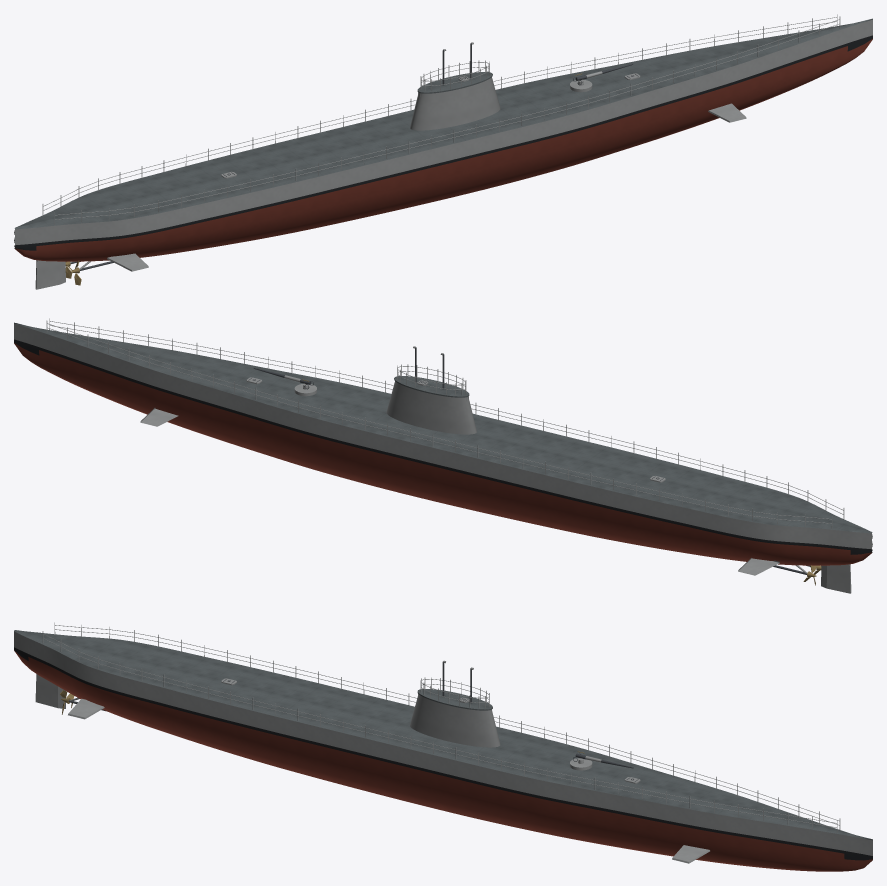
The model's file is mare_ss28.glb.
3 views of the same model, one above another, from view 1: azimuth 30°, elevation 25°; view 2: azimuth 150°, elevation 25°; view 3: azimuth 330°, elevation 25° (orthographic).
Parts seen in each view (by area): view 1: Tirreno submarine; view 2: Tirreno submarine; view 3: Tirreno submarine.
Part boxes in pixels (x1,y1,x2,y2): Tirreno submarine: [14, 14, 872, 289]; Tirreno submarine: [14, 318, 872, 593]; Tirreno submarine: [14, 622, 872, 871].
Bounding box in the file's own units: 75 × 12.08 × 9.7.
Materials: 6 (6 with a texture image).
